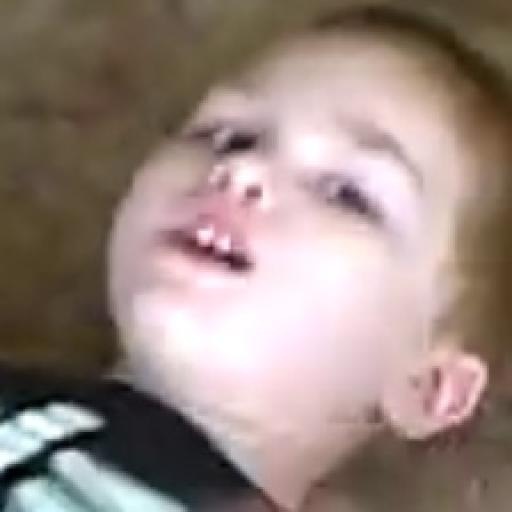Autism: (79, 106, 512, 469)
